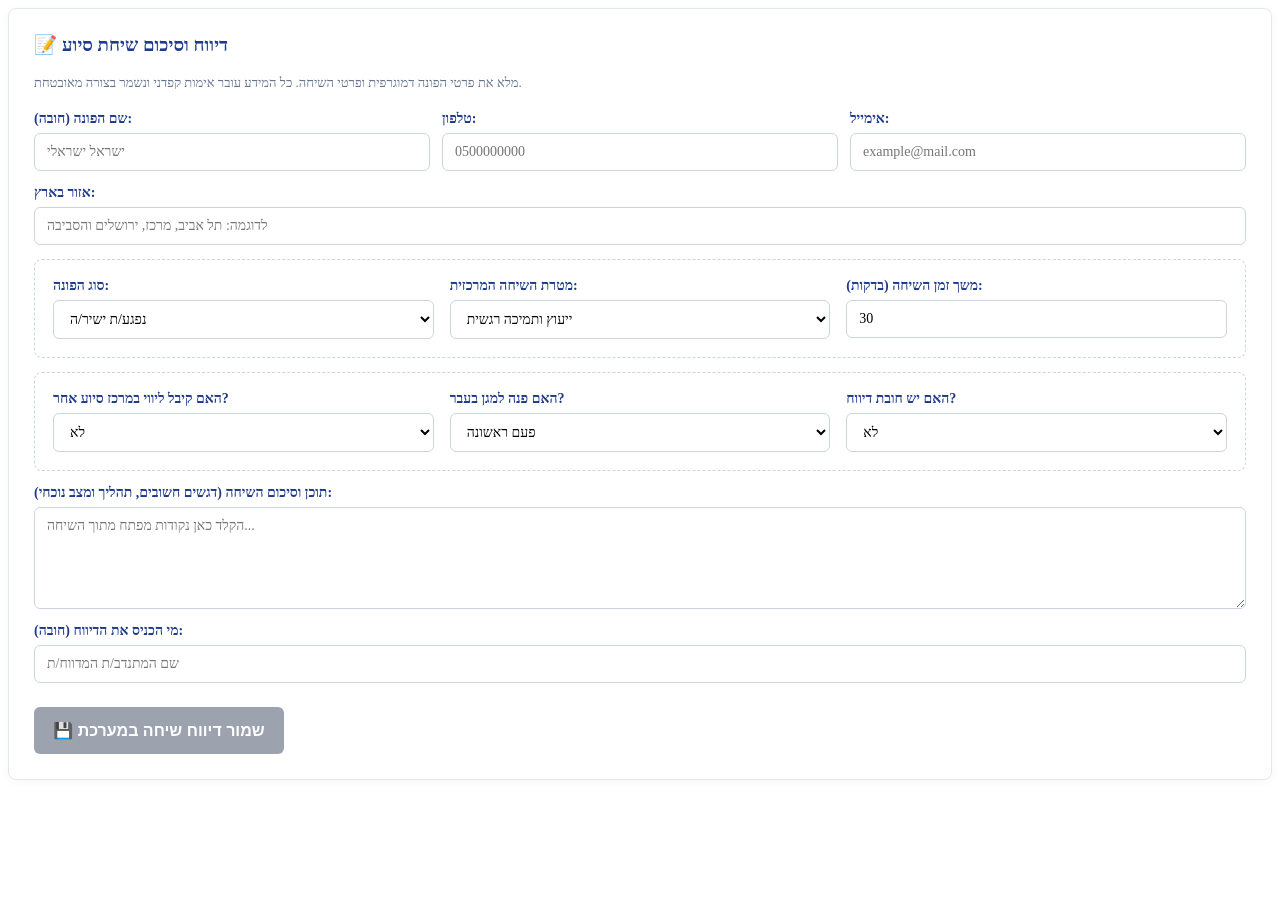
ReportComponent › phone number validation › should show the Hebrew error message once the phone field is touched and invalid
The width and height of the screenshot is (1280, 900).
In the field named "phone": (640, 152) x1=442 y1=133 x2=838 y2=171, type "12345"
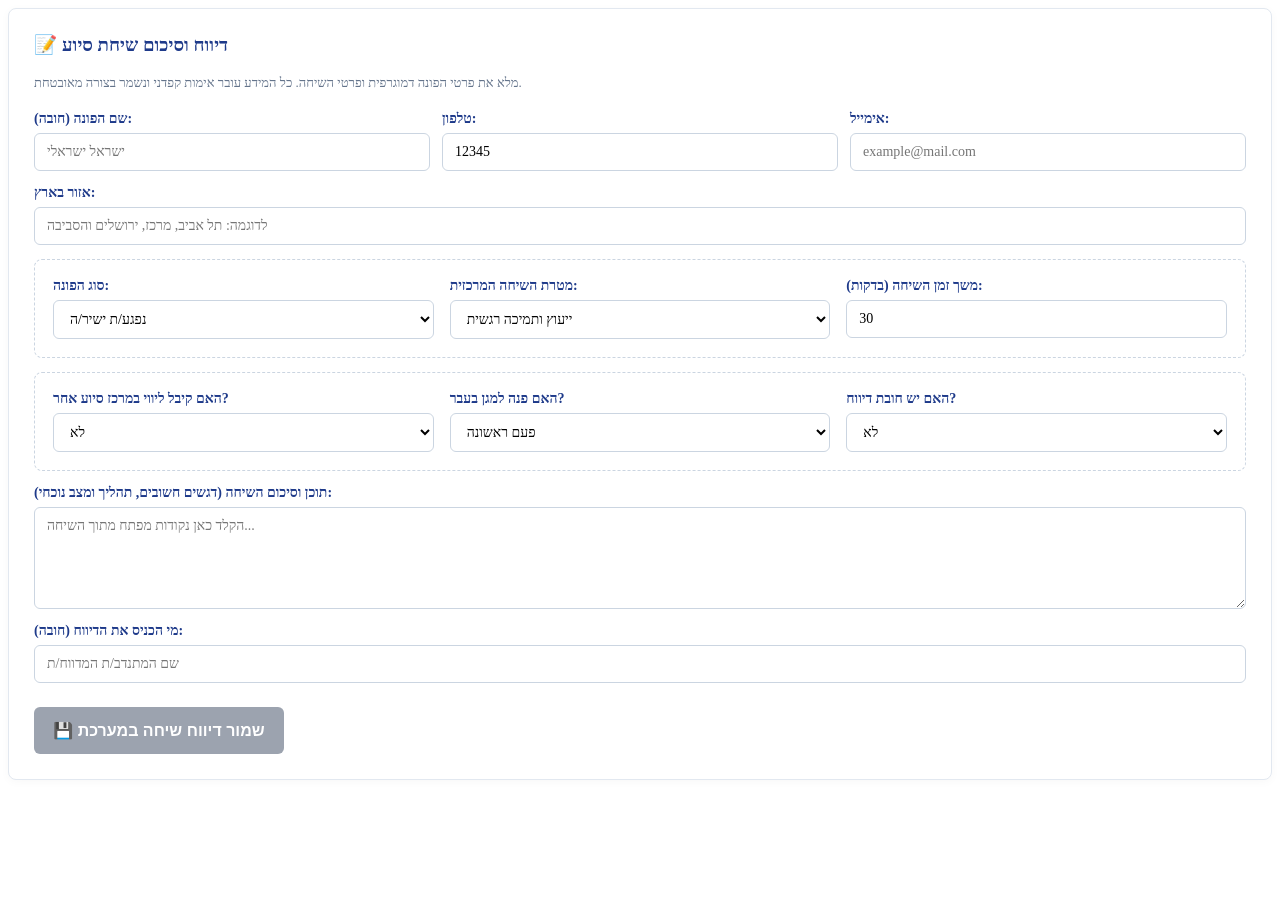
Leave the field named "phone", box x1=442 y1=133 x2=838 y2=171
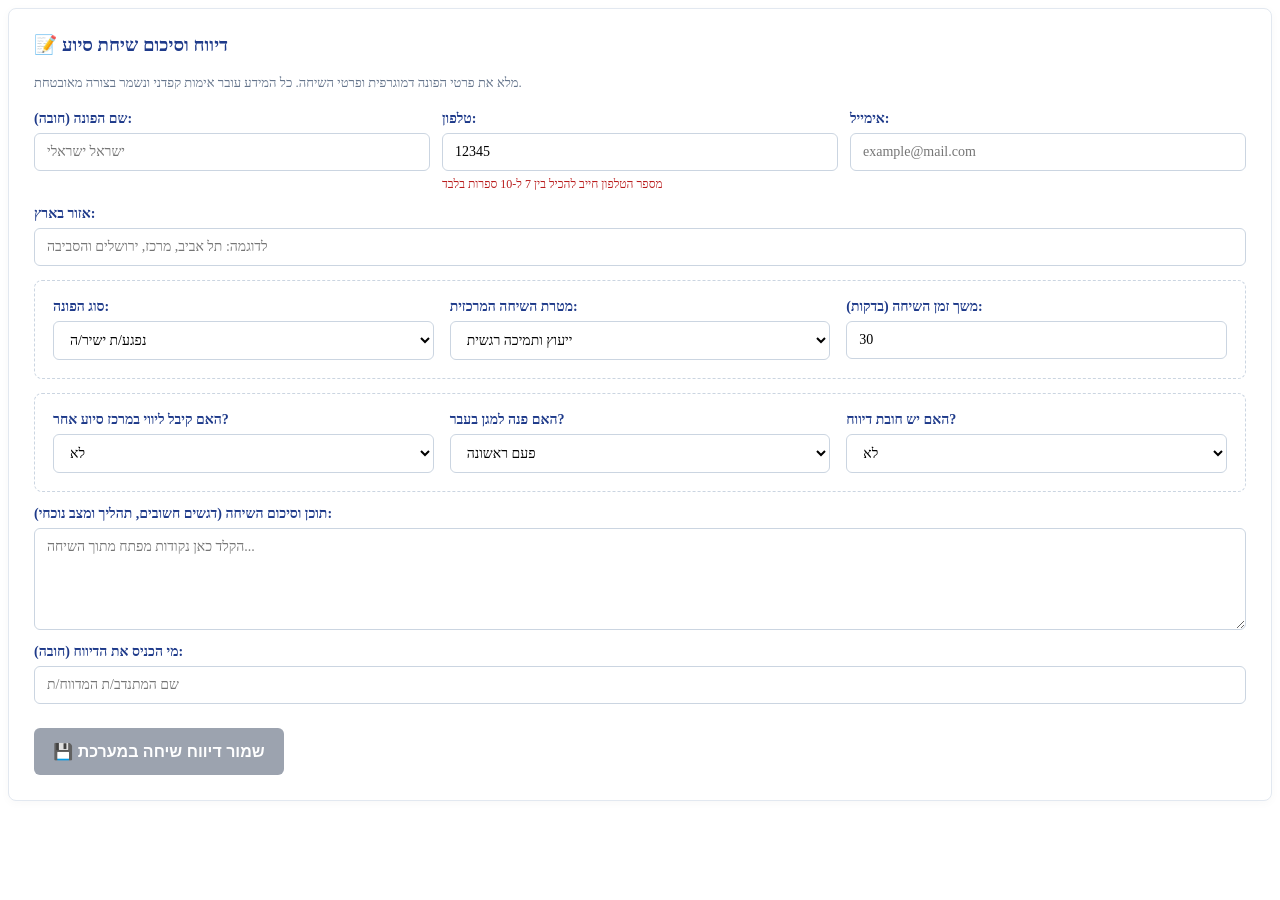
Expected: the text with class "field-error" shows "בין 7 ל-10 ספרות", x1=442 y1=177 x2=663 y2=191
